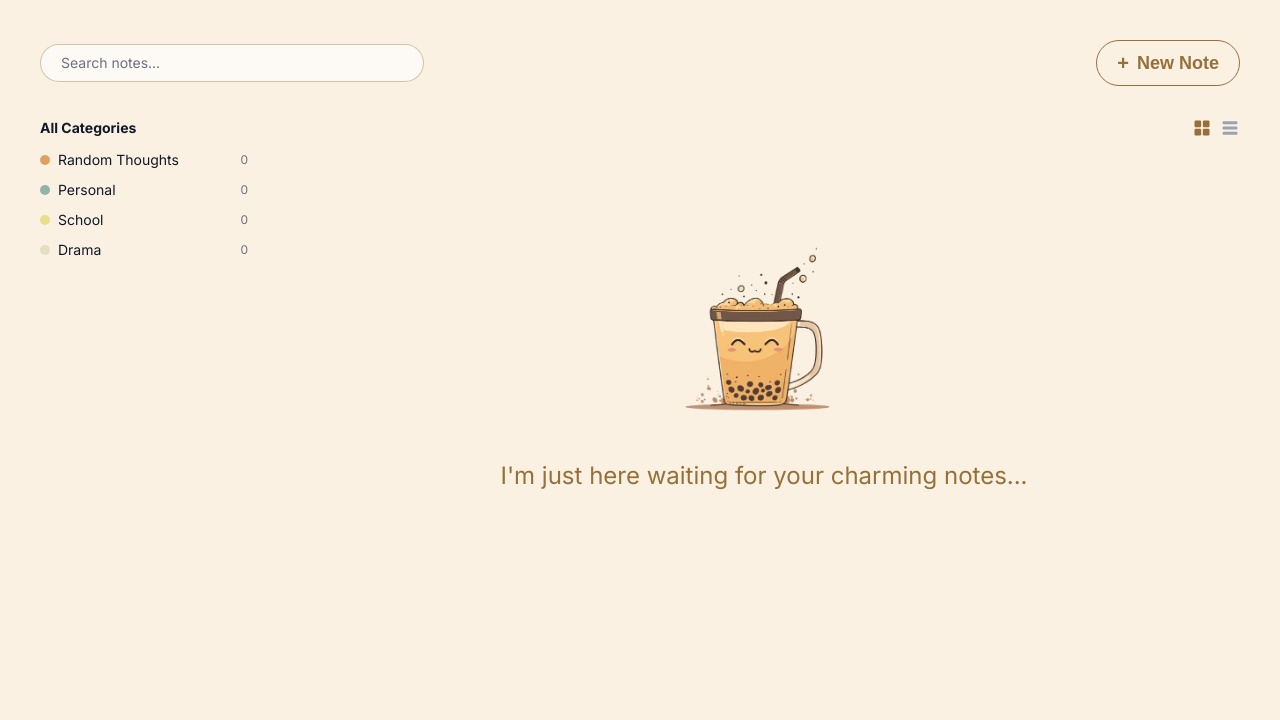
NotesDashboard › shows an error banner when a filtered fetch fails
Click the button with aria-label "Filter by School" at (144, 220), box [40,210,248,230]
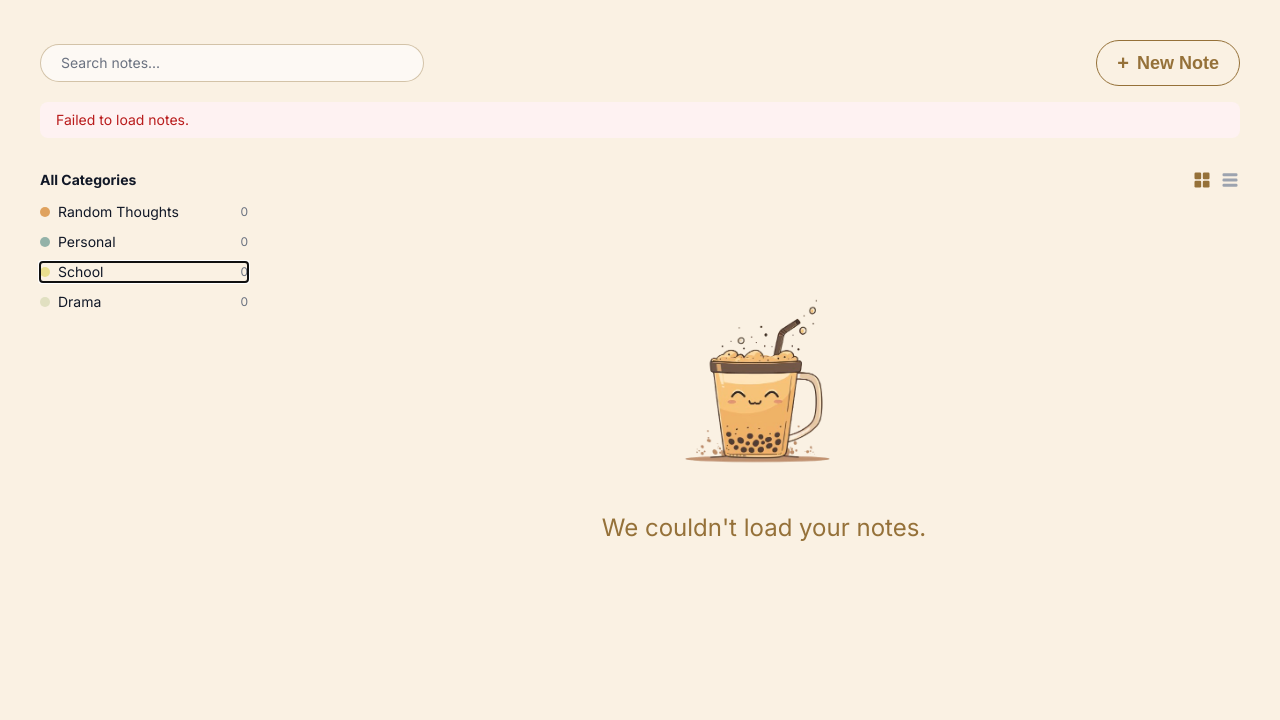
Result: the message with test id "notes-error-banner" reads "Failed to load notes." at [56,111,189,128]
